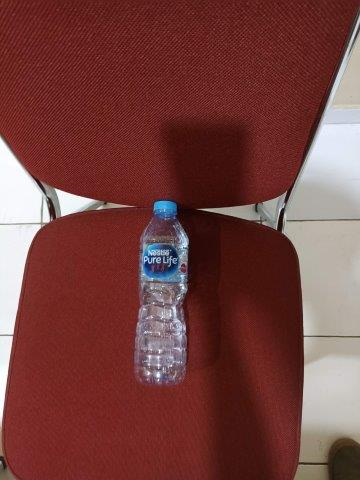botolplastik: (135, 200, 187, 391)
